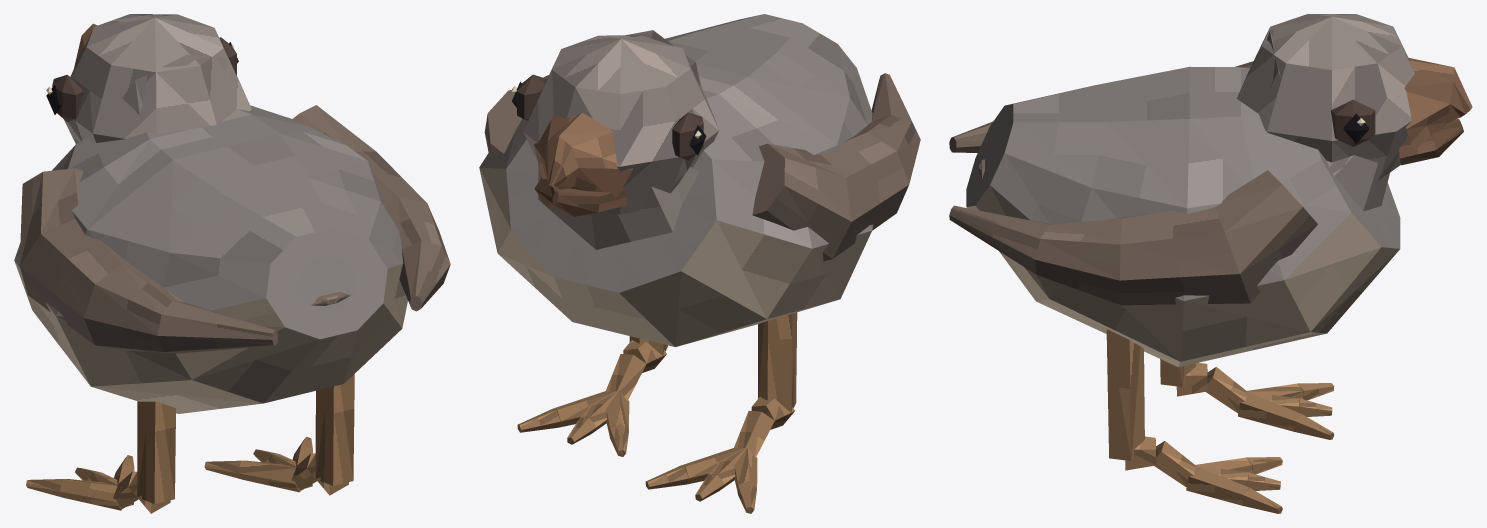
The model's file is mon_cardinal_chick.glb.
3 views of the same model, side by side, from view 1: azimuth 30°, elevation 25°; view 2: azimuth 150°, elevation 25°; view 3: azimuth 270°, elevation 25° (orthographic).
Parts seen in each view (by area): view 1: closed_body; view 2: closed_body; view 3: closed_body.
Part boxes in pixels (x1,y1,x2,y2): closed_body: (14,14,450,513); closed_body: (479,14,920,513); closed_body: (949,14,1472,513).
Size of the model in its own units: 0.0346 by 0.0402 by 0.0435.
1 material, 1 textured.
